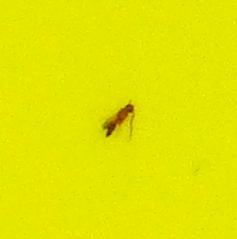Hymenoptera: (100, 100, 137, 139)
